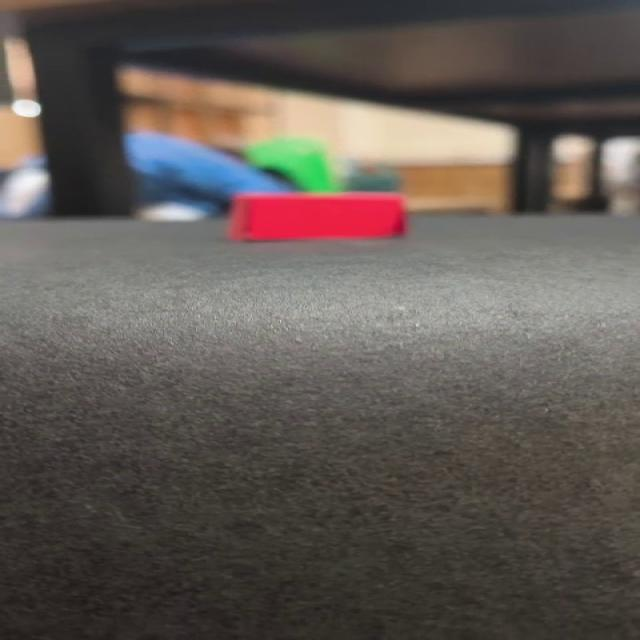red block: (225, 190, 408, 242)
